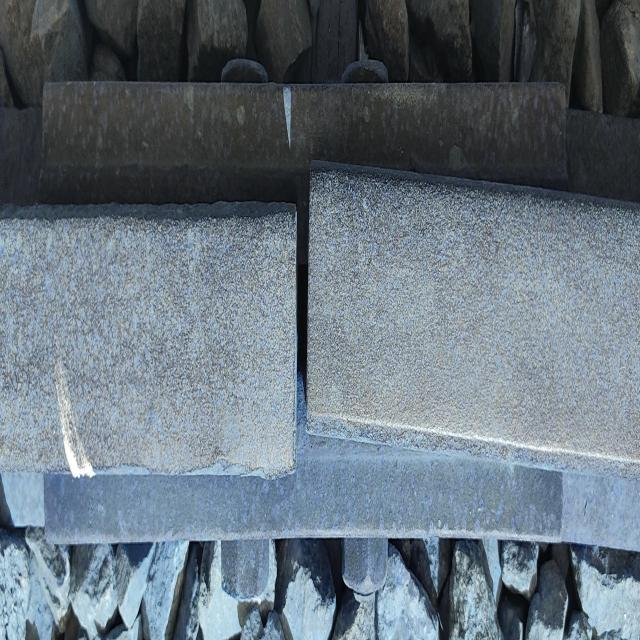railway_join_bar_defects_medium: (228, 54, 395, 539)
